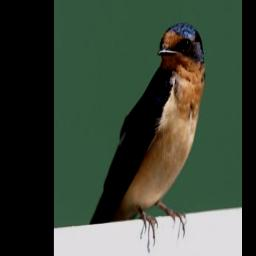Swallow: (89, 21, 204, 245)
